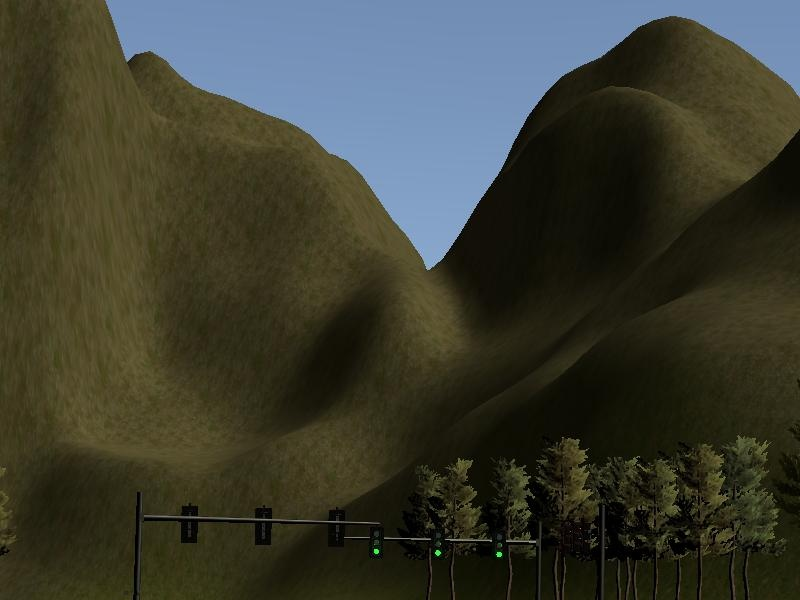GREEN: (429, 524, 446, 562), (368, 524, 385, 559), (491, 525, 506, 563)
